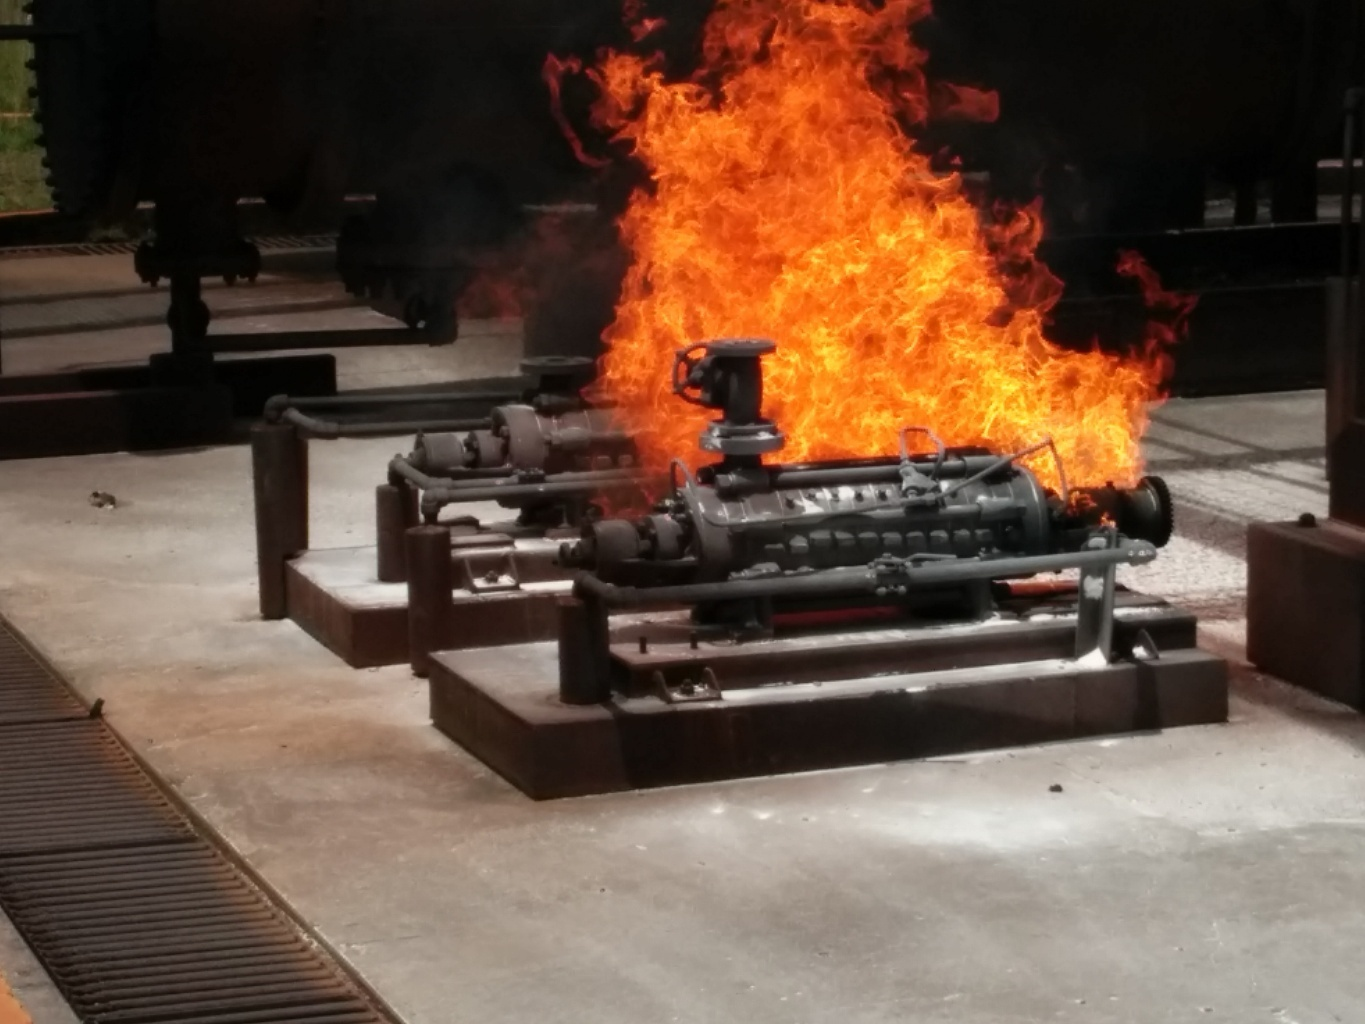fire: (561, 0, 1202, 514)
